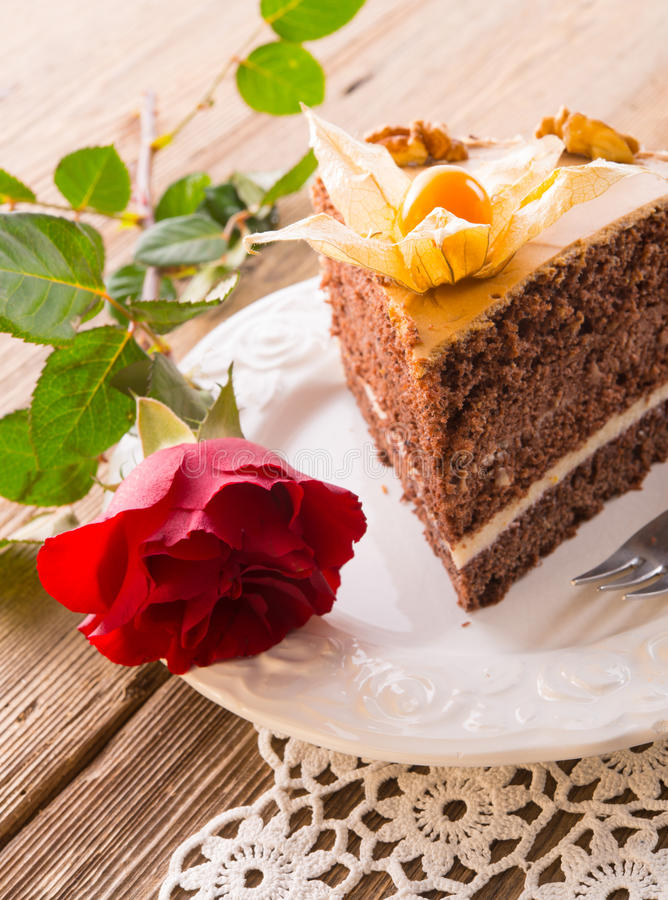RedRose: (21, 409, 354, 690)
